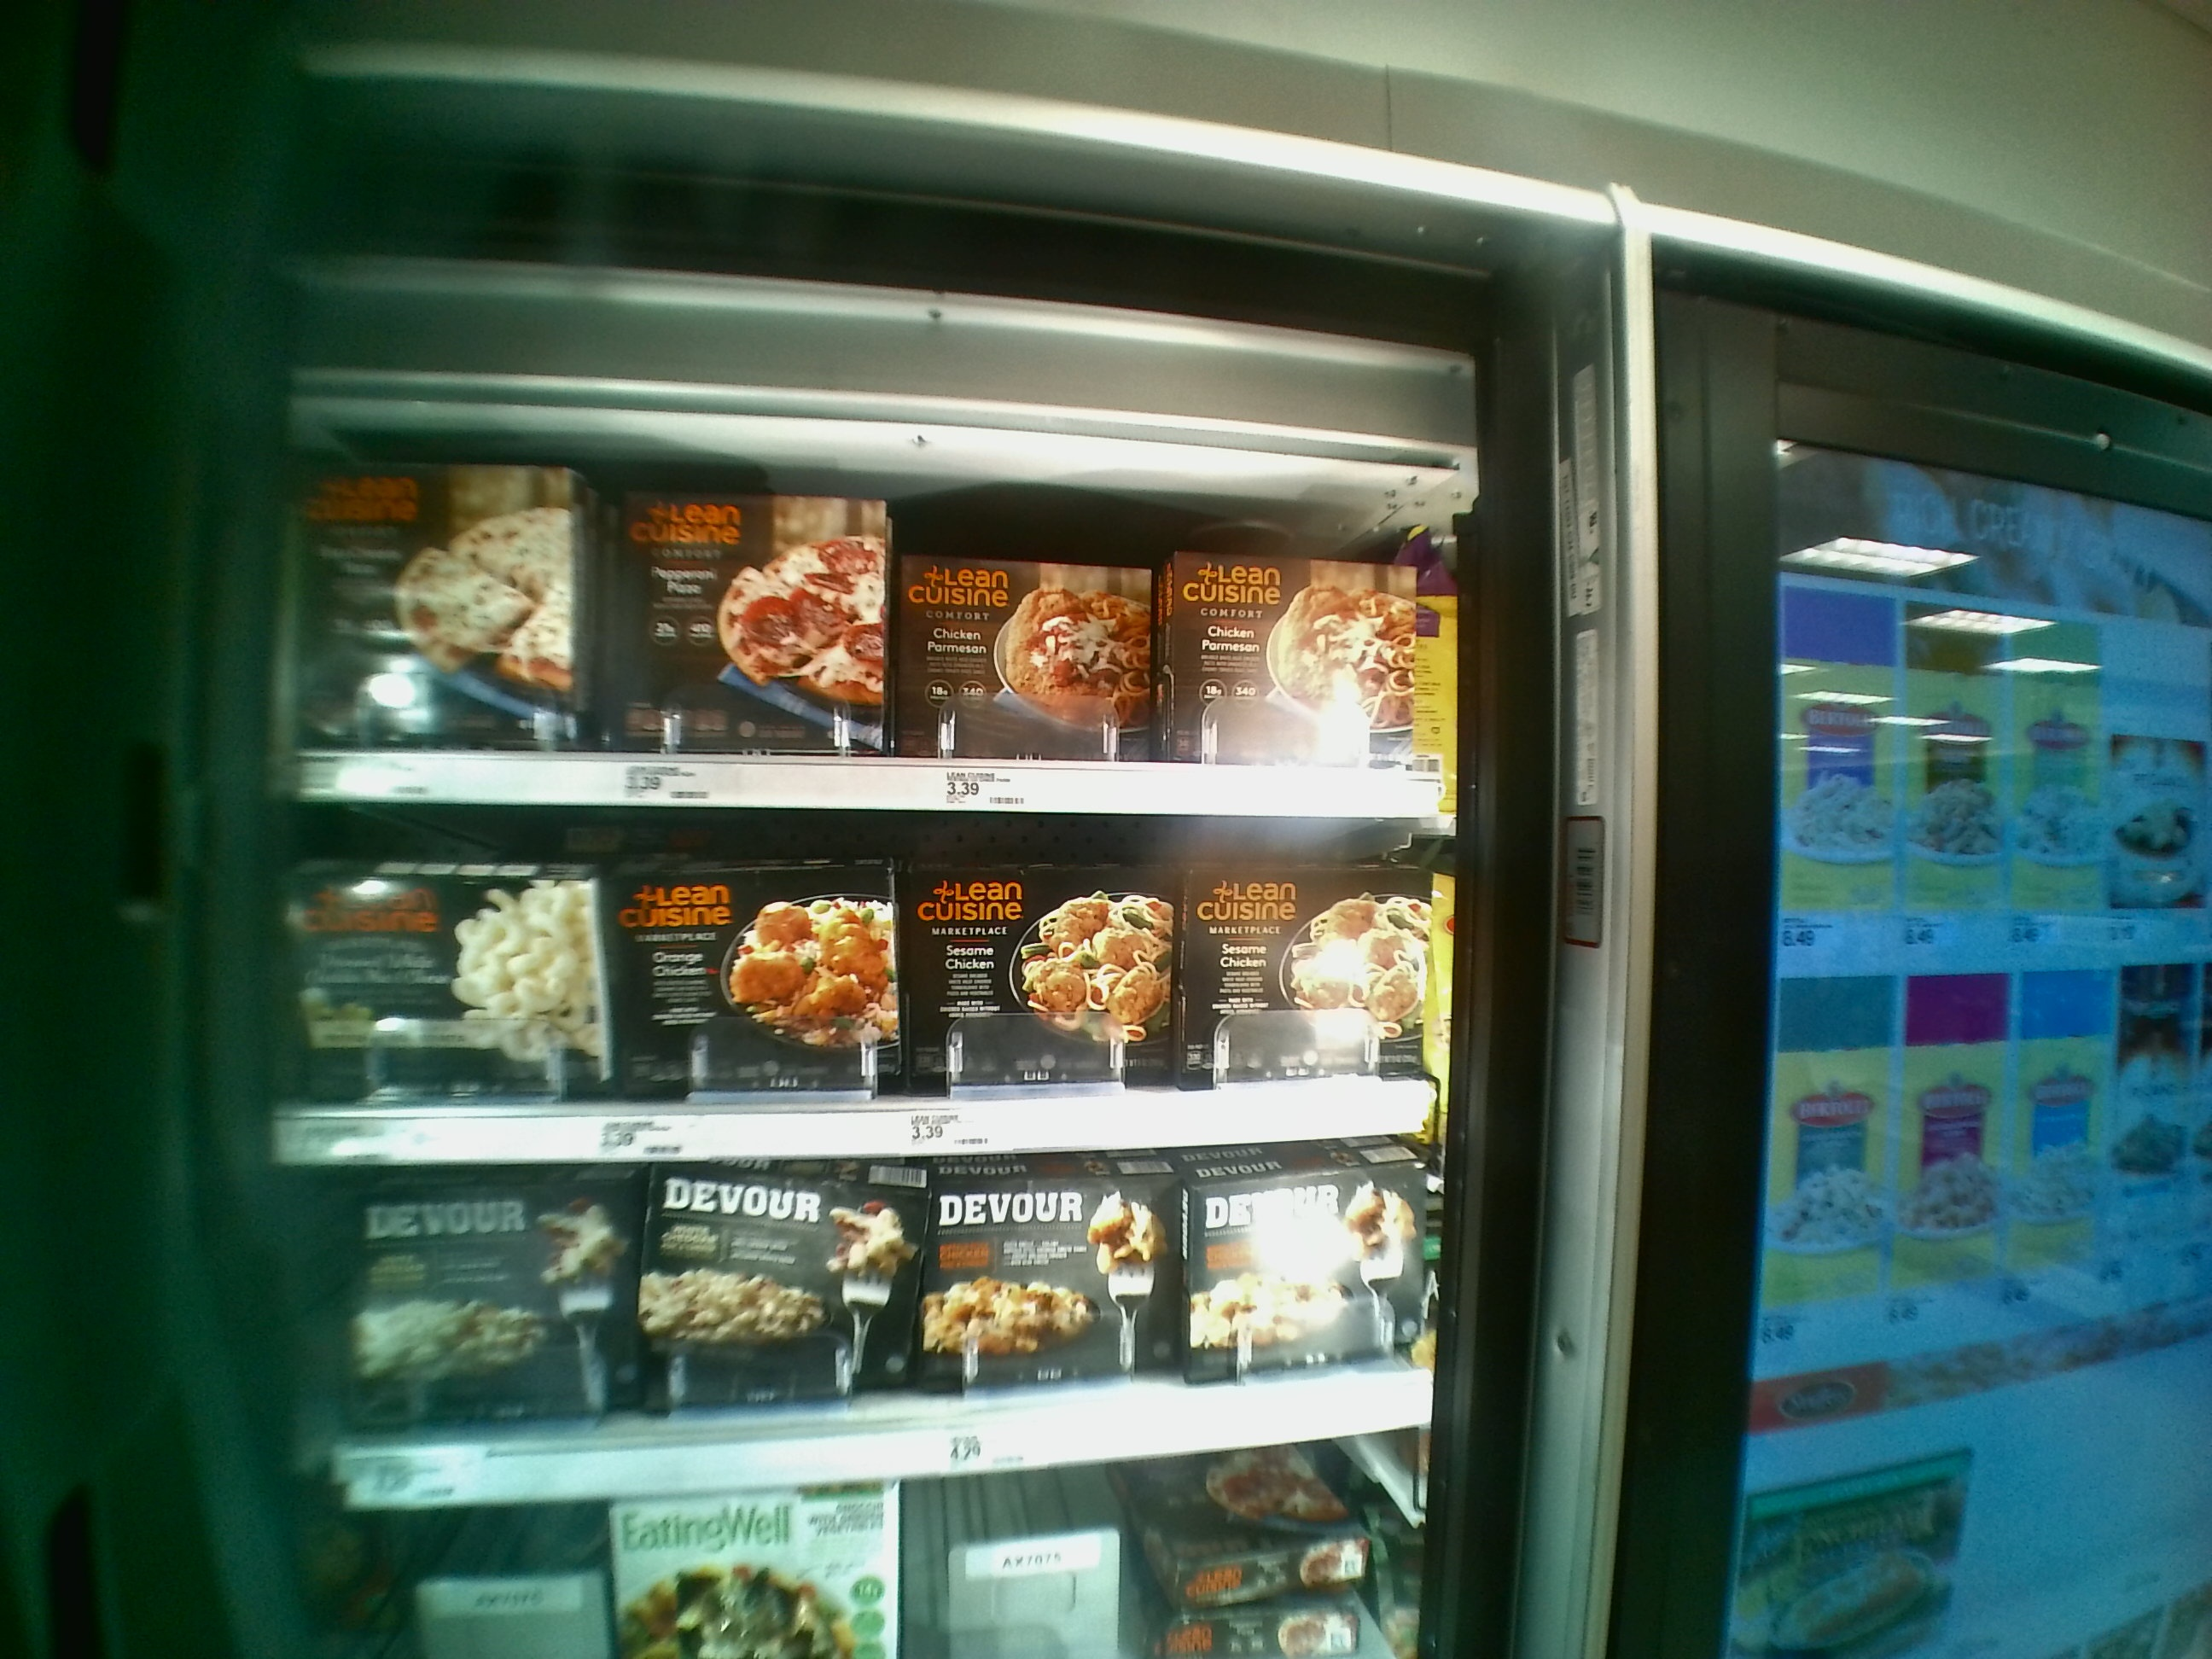shelf: (280, 373, 1451, 814), (284, 791, 1456, 1171), (263, 1129, 1435, 1509)
